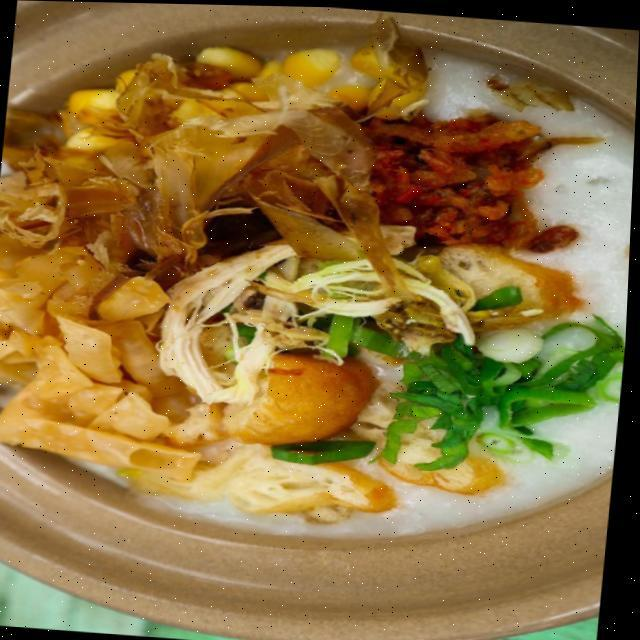bubur ayam: (0, 9, 640, 557)
mangkuk: (0, 0, 640, 640)
